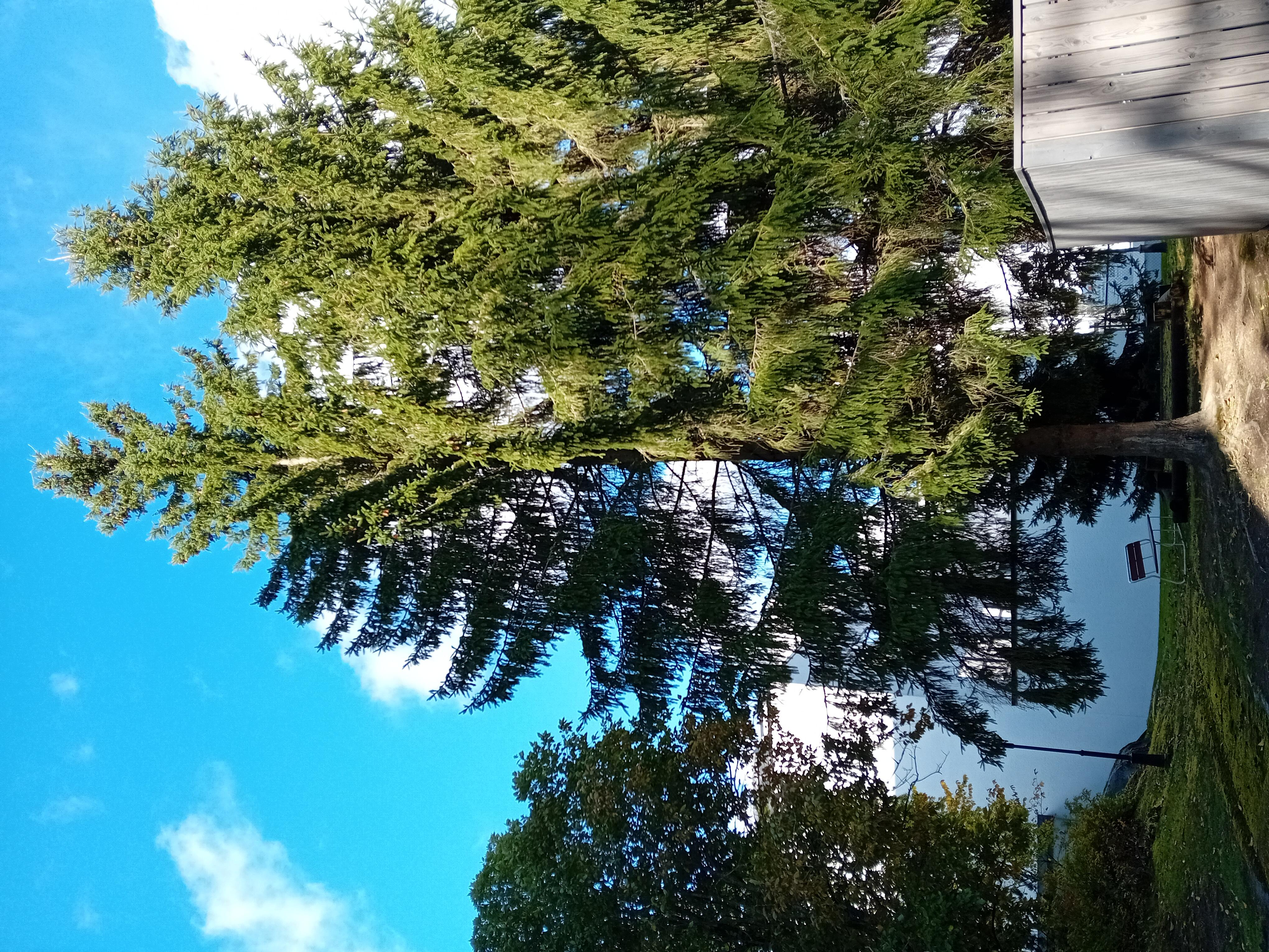Spruce: (237, 0, 1269, 893), (337, 0, 885, 903), (749, 1, 1234, 751)
